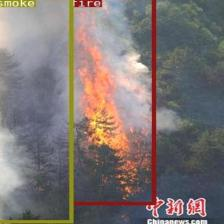fire: (68, 0, 154, 204)
smoke: (0, 0, 73, 223)
